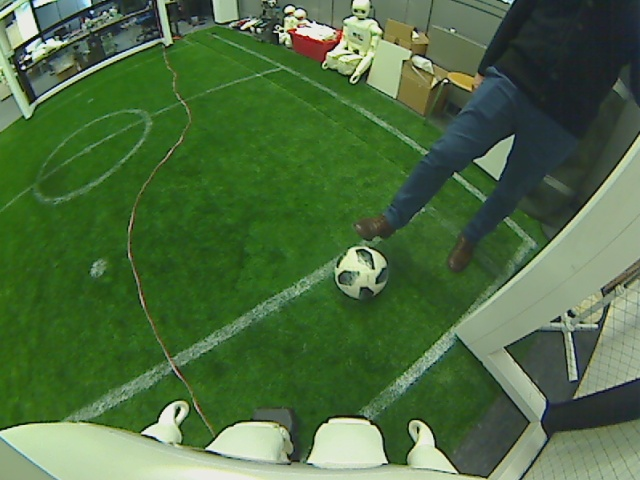ball: (331, 243, 390, 299)
